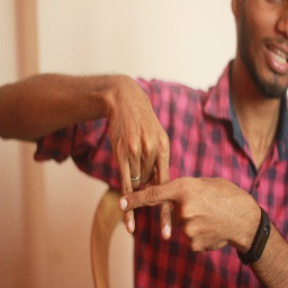H: (104, 137, 201, 243)
